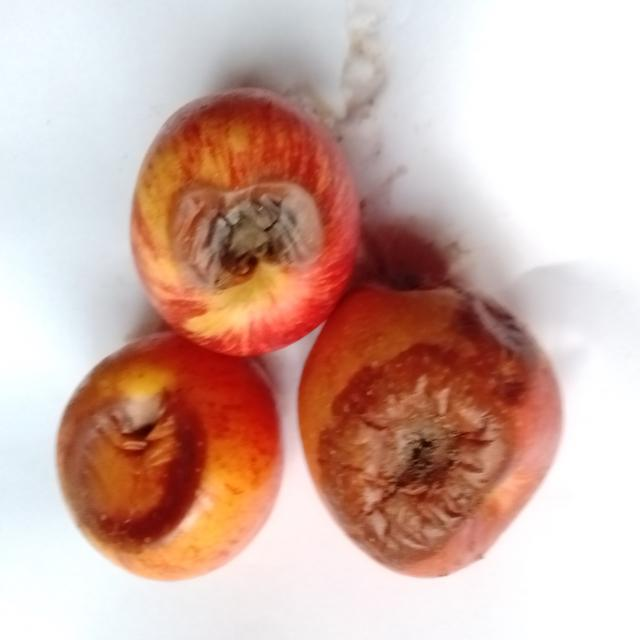apple: (299, 285, 560, 576), (131, 89, 359, 355), (58, 333, 281, 579)
